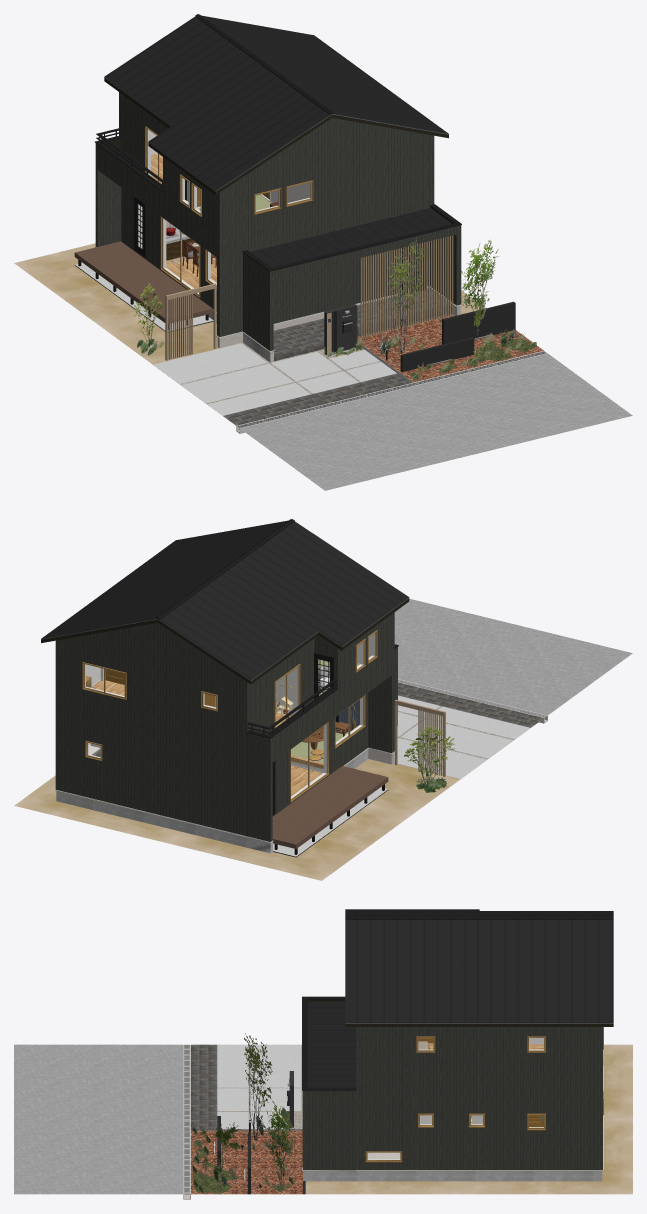
File: works-proposal.glb
3 renders of one model, top to bottom at view 1: azimuth 30°, elevation 25°; view 2: azimuth 150°, elevation 25°; view 3: azimuth 270°, elevation 25°, orthographic.
Parts seen in each view (by area): view 1: 5ADF98F5-2B44-4BAB-BCE9-32864302623F, 8100A1F6-1791-4A6F-BC00-DCA5D48B6D5C, C0812715-F07C-4FF4-8F53-B752FFB2EBAF, A5383FAA-1886-4538-AFEA-2D67B070C312, 965B0CDB-D025-40A0-BCE6-D7B843468C24, C876380C-B767-4128-806F-4E4AC692D537, FA5701E1-1564-4D6B-9AB3-C63AEB0BD490, 6F74883A-1091-479F-8D67-F2CA2E8394F9, B443EBD5-17FA-40C1-853B-B2992E42A8D6, 89AA1743-F67A-443E-95F5-26D7F8B4DACF, 2038D079-14A6-438C-A92C-DF7A7FAB3C3B, C49B9D27-659C-4380-A59B-0D8CE114FA00 (+2 smaller); view 2: 5ADF98F5-2B44-4BAB-BCE9-32864302623F, 8100A1F6-1791-4A6F-BC00-DCA5D48B6D5C, 965B0CDB-D025-40A0-BCE6-D7B843468C24, C0812715-F07C-4FF4-8F53-B752FFB2EBAF, A5383FAA-1886-4538-AFEA-2D67B070C312, FA5701E1-1564-4D6B-9AB3-C63AEB0BD490, C876380C-B767-4128-806F-4E4AC692D537, ABBBD8BE-EAC2-4D04-9AC5-261A78D73F3E, B443EBD5-17FA-40C1-853B-B2992E42A8D6; view 3: 5ADF98F5-2B44-4BAB-BCE9-32864302623F, 8100A1F6-1791-4A6F-BC00-DCA5D48B6D5C, 965B0CDB-D025-40A0-BCE6-D7B843468C24, C0812715-F07C-4FF4-8F53-B752FFB2EBAF, 6F74883A-1091-479F-8D67-F2CA2E8394F9, C876380C-B767-4128-806F-4E4AC692D537, B443EBD5-17FA-40C1-853B-B2992E42A8D6, 89AA1743-F67A-443E-95F5-26D7F8B4DACF, 2038D079-14A6-438C-A92C-DF7A7FAB3C3B, 9044A50B-50B4-4DEE-9DDA-37C5EE842E97, C49B9D27-659C-4380-A59B-0D8CE114FA00, A5383FAA-1886-4538-AFEA-2D67B070C312 (+1 smaller).
Boxes of the visible parts, left/top/right/bottom form: 5ADF98F5-2B44-4BAB-BCE9-32864302623F: left=94, top=14, right=461, bottom=362; 8100A1F6-1791-4A6F-BC00-DCA5D48B6D5C: left=240, top=353, right=632, bottom=490; C0812715-F07C-4FF4-8F53-B752FFB2EBAF: left=75, top=263, right=396, bottom=415; A5383FAA-1886-4538-AFEA-2D67B070C312: left=74, top=235, right=515, bottom=371; 965B0CDB-D025-40A0-BCE6-D7B843468C24: left=14, top=243, right=484, bottom=364; C876380C-B767-4128-806F-4E4AC692D537: left=223, top=288, right=451, bottom=425; FA5701E1-1564-4D6B-9AB3-C63AEB0BD490: left=165, top=283, right=357, bottom=360; 6F74883A-1091-479F-8D67-F2CA2E8394F9: left=357, top=313, right=543, bottom=382; B443EBD5-17FA-40C1-853B-B2992E42A8D6: left=219, top=287, right=547, bottom=433; 89AA1743-F67A-443E-95F5-26D7F8B4DACF: left=387, top=238, right=424, bottom=353; 2038D079-14A6-438C-A92C-DF7A7FAB3C3B: left=460, top=239, right=498, bottom=310; C49B9D27-659C-4380-A59B-0D8CE114FA00: left=180, top=343, right=380, bottom=404; 5ADF98F5-2B44-4BAB-BCE9-32864302623F: left=41, top=519, right=409, bottom=853; 8100A1F6-1791-4A6F-BC00-DCA5D48B6D5C: left=394, top=598, right=632, bottom=715; 965B0CDB-D025-40A0-BCE6-D7B843468C24: left=14, top=759, right=460, bottom=880; C0812715-F07C-4FF4-8F53-B752FFB2EBAF: left=273, top=695, right=530, bottom=856; A5383FAA-1886-4538-AFEA-2D67B070C312: left=272, top=676, right=388, bottom=857; FA5701E1-1564-4D6B-9AB3-C63AEB0BD490: left=394, top=699, right=445, bottom=776; C876380C-B767-4128-806F-4E4AC692D537: left=398, top=682, right=543, bottom=727; ABBBD8BE-EAC2-4D04-9AC5-261A78D73F3E: left=404, top=725, right=454, bottom=785; B443EBD5-17FA-40C1-853B-B2992E42A8D6: left=56, top=679, right=547, bottom=852; 5ADF98F5-2B44-4BAB-BCE9-32864302623F: left=302, top=909, right=613, bottom=1181; 8100A1F6-1791-4A6F-BC00-DCA5D48B6D5C: left=14, top=1044, right=183, bottom=1194; 965B0CDB-D025-40A0-BCE6-D7B843468C24: left=305, top=1044, right=632, bottom=1194; C0812715-F07C-4FF4-8F53-B752FFB2EBAF: left=217, top=1044, right=301, bottom=1129; 6F74883A-1091-479F-8D67-F2CA2E8394F9: left=191, top=1130, right=302, bottom=1194; C876380C-B767-4128-806F-4E4AC692D537: left=191, top=1044, right=217, bottom=1129; B443EBD5-17FA-40C1-853B-B2992E42A8D6: left=183, top=1044, right=400, bottom=1199; 89AA1743-F67A-443E-95F5-26D7F8B4DACF: left=244, top=1033, right=272, bottom=1141; 2038D079-14A6-438C-A92C-DF7A7FAB3C3B: left=266, top=1101, right=295, bottom=1185; 9044A50B-50B4-4DEE-9DDA-37C5EE842E97: left=192, top=1111, right=294, bottom=1193; C49B9D27-659C-4380-A59B-0D8CE114FA00: left=217, top=1044, right=302, bottom=1129; A5383FAA-1886-4538-AFEA-2D67B070C312: left=213, top=1079, right=542, bottom=1194.
Bounding box in the file's own units: 12.59 × 8.16 × 21.
Materials: 469 (375 with a texture image).
